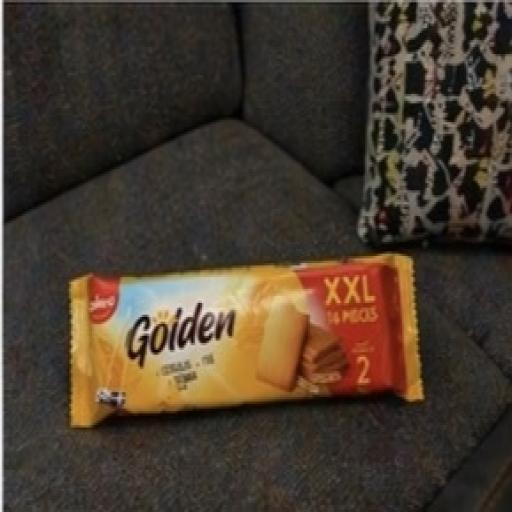golden: (38, 203, 476, 476)
